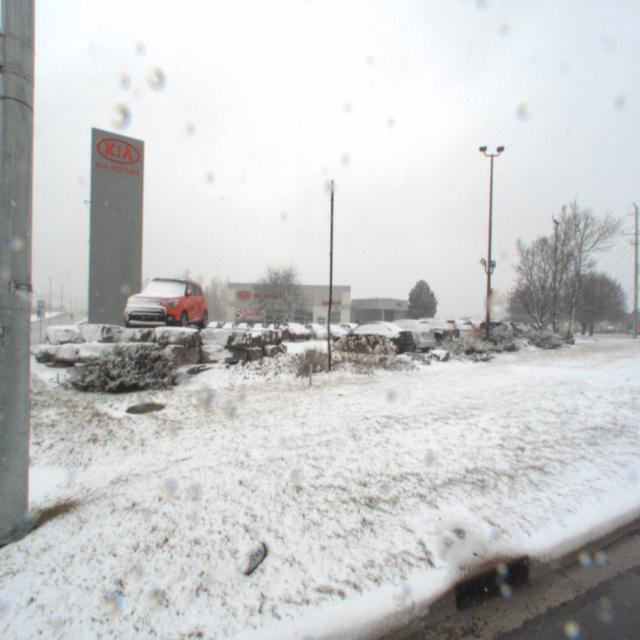Car: (110, 264, 212, 334), (324, 320, 418, 361), (357, 319, 439, 359), (384, 317, 462, 357), (405, 321, 477, 355), (269, 319, 311, 344), (296, 321, 332, 343), (332, 322, 370, 342), (313, 322, 349, 342)
